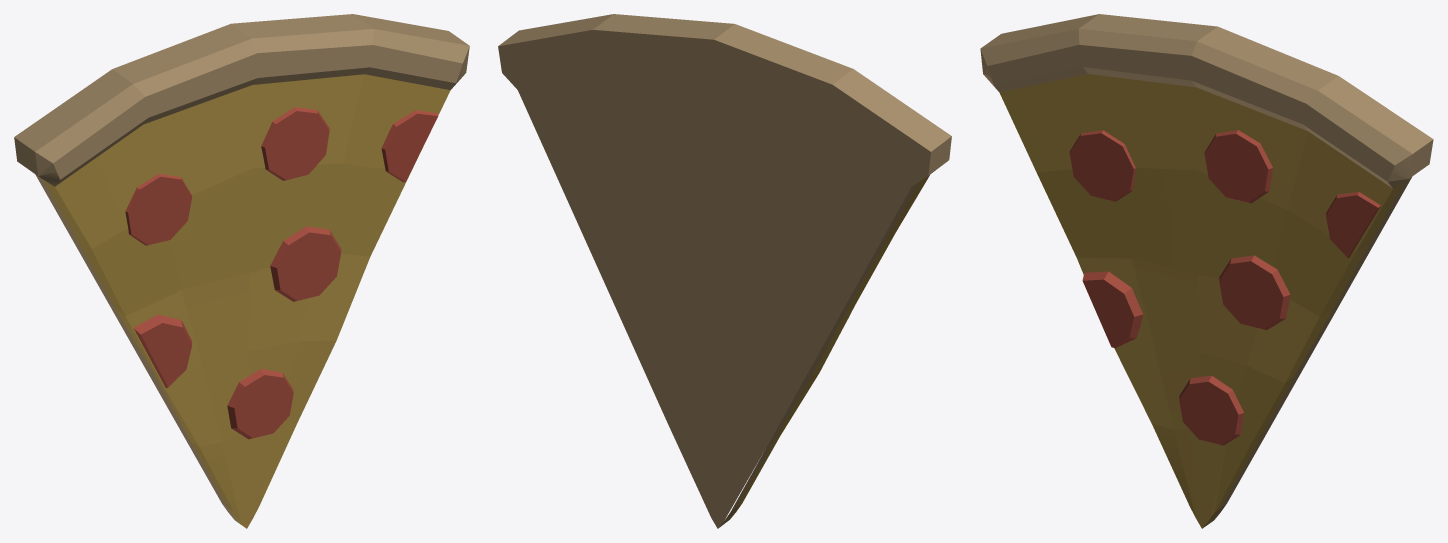
File: pizza.glb
3 renders of one model, left to right at view 1: azimuth 30°, elevation 25°; view 2: azimuth 150°, elevation 25°; view 3: azimuth 330°, elevation 25°, orthographic.
Parts seen in each view (by area): view 1: Pizza_Slice; view 2: Pizza_Slice; view 3: Pizza_Slice.
Boxes of the visible parts, x1=… form: Pizza_Slice: x1=14, y1=14, x2=469, y2=528; Pizza_Slice: x1=498, y1=14, x2=951, y2=528; Pizza_Slice: x1=980, y1=14, x2=1433, y2=528.
Size of the model in its own units: 0.5012 by 0.5447 by 0.0541.
